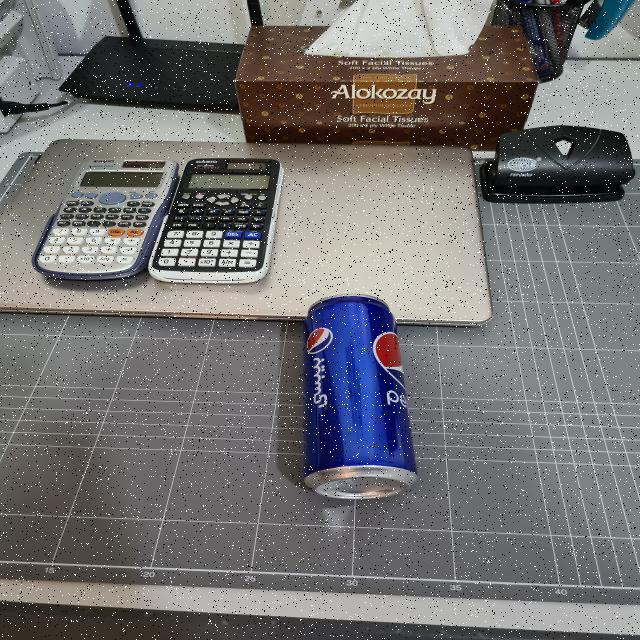can: (296, 296, 426, 500)
